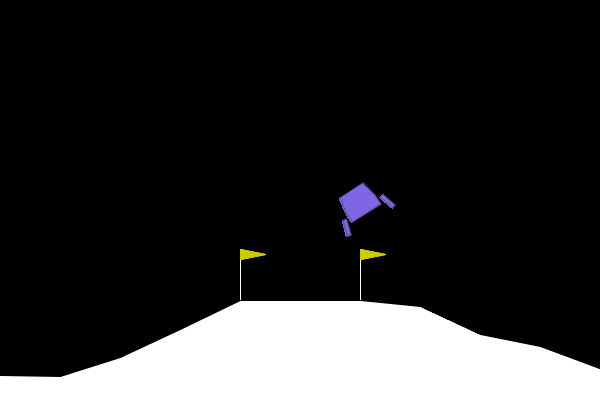lander: (325, 173, 397, 239)
